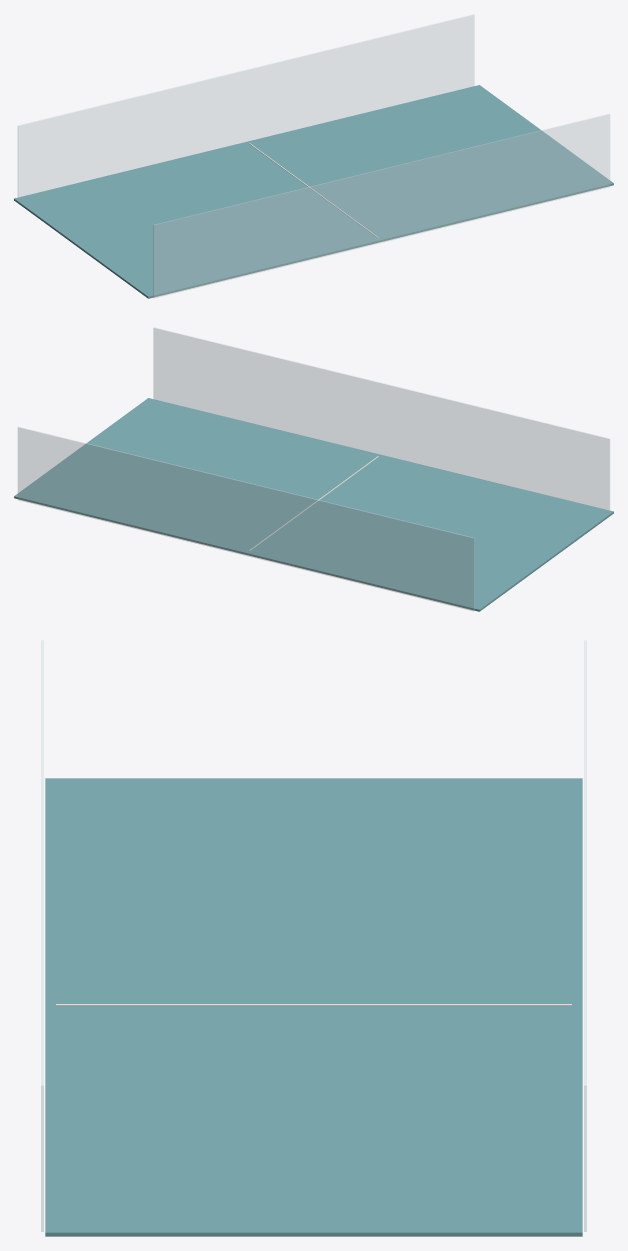
Rendered from padel-court.glb.
The picture shows the model from 3 angles, top to bottom: view 1: azimuth 30°, elevation 25°; view 2: azimuth 150°, elevation 25°; view 3: azimuth 270°, elevation 25°; orthographic projection. The views are drawn at different scales.
Parts seen in each view (by area): view 1: spatial-root; view 2: spatial-root; view 3: spatial-root.
Boxes of the visible parts, x1,y1,x2,y2 form: spatial-root: [14, 14, 613, 298]; spatial-root: [14, 327, 613, 611]; spatial-root: [41, 640, 586, 1236].
Bounding box in the file's own units: 20 × 3 × 10.16.
